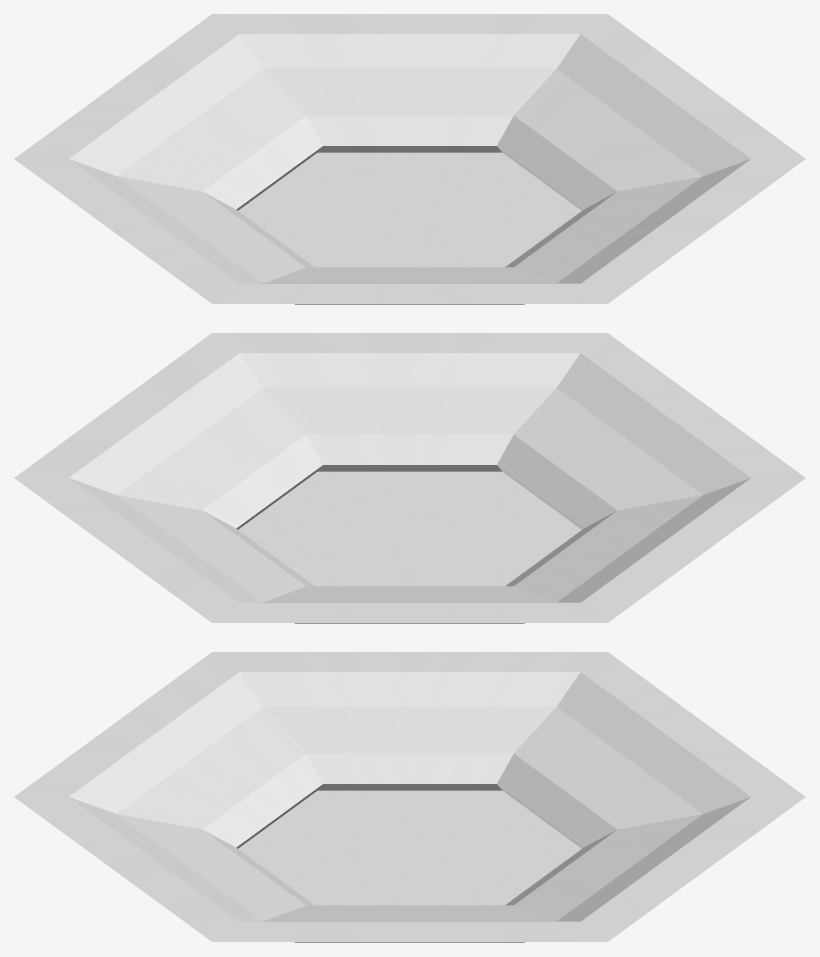
The model's file is piattino.fbx.
The picture shows the model from 3 angles, top to bottom: view 1: azimuth 30°, elevation 25°; view 2: azimuth 150°, elevation 25°; view 3: azimuth 270°, elevation 25°; orthographic projection.
Visible parts, largest first — view 1: piattino; view 2: piattino; view 3: piattino.
Part boxes in pixels (<box>): piattino: <box>14,14,805,304</box>; piattino: <box>14,333,805,623</box>; piattino: <box>14,652,805,942</box>.
Bounding box in the file's own units: 0.1304 × 0.0131 × 0.1506.
